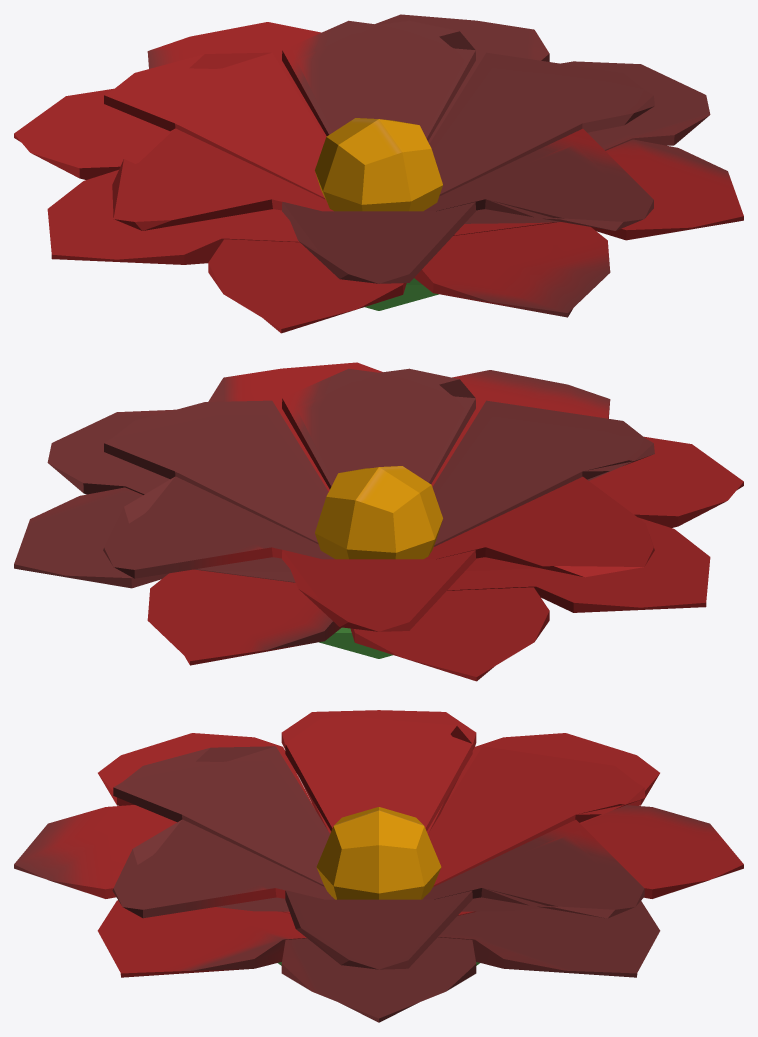
File: Flor medicinal 1.fbx
3 views of the same model, one above another, from view 1: azimuth 30°, elevation 25°; view 2: azimuth 150°, elevation 25°; view 3: azimuth 270°, elevation 25° (orthographic). The views are drawn at different scales.
Parts seen in each view (by area): view 1: Flor; view 2: Flor; view 3: Flor.
Boxes of the visible parts, x1,y1,x2,y2 form: Flor: (14, 14, 743, 333); Flor: (14, 362, 743, 681); Flor: (14, 710, 743, 1022).
Size of the model in its own units: 37.99 by 10.66 by 37.99.
